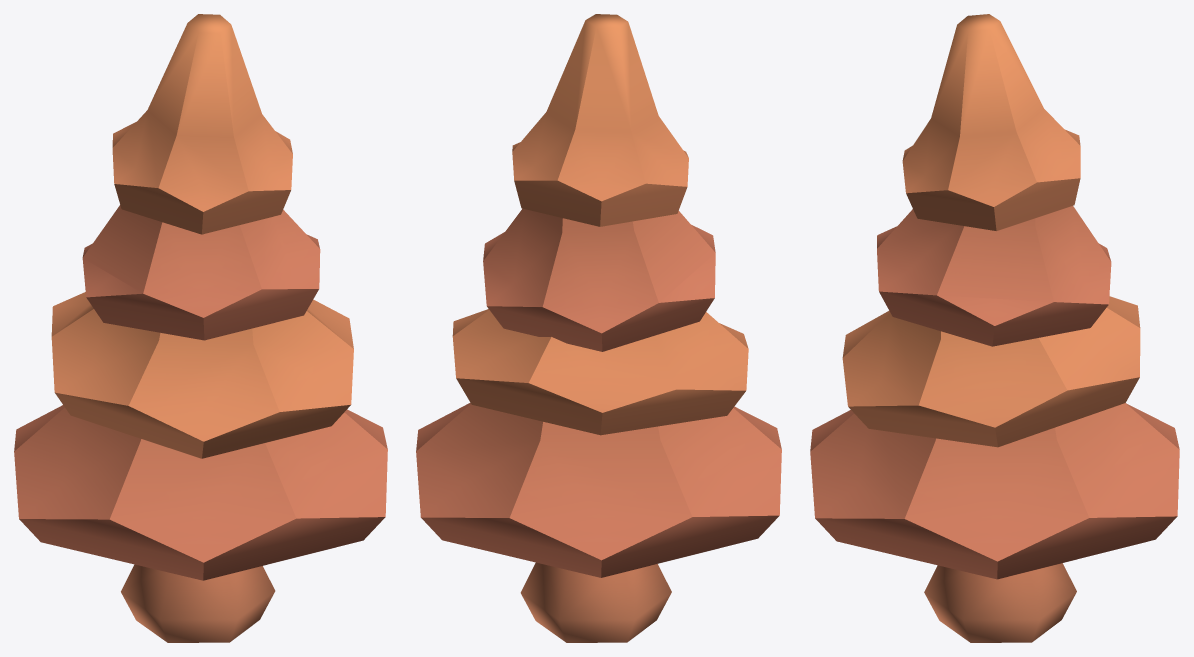
Rendered from pine-fall-crooked.007_lev3.glb.
3 renders of one model, left to right at view 1: azimuth 30°, elevation 25°; view 2: azimuth 150°, elevation 25°; view 3: azimuth 270°, elevation 25°, orthographic. The views are drawn at different scales.
Visible parts, largest first — view 1: pine-fall-crooked.007_lev3; view 2: pine-fall-crooked.007_lev3; view 3: pine-fall-crooked.007_lev3.
Boxes of the visible parts, x1=… form: pine-fall-crooked.007_lev3: x1=14, y1=14, x2=387, y2=642; pine-fall-crooked.007_lev3: x1=416, y1=14, x2=781, y2=642; pine-fall-crooked.007_lev3: x1=810, y1=14, x2=1179, y2=642.
Size of the model in its own units: 12.01 by 18.97 by 10.6.
Materials: 1 (1 with a texture image).
